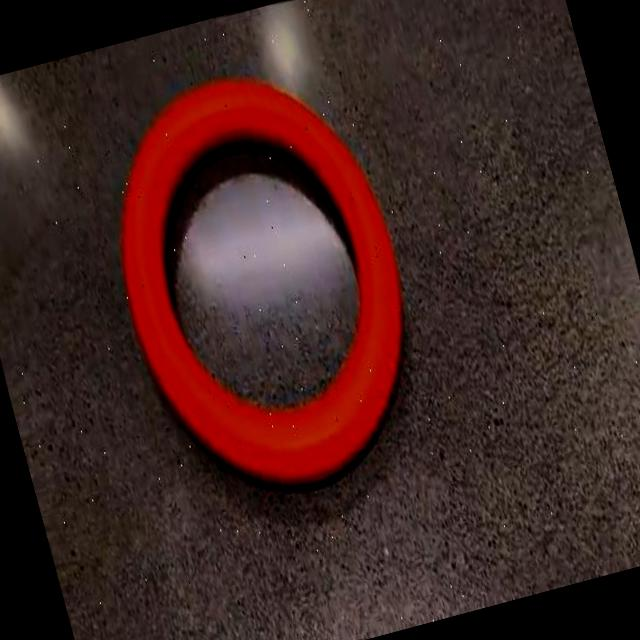note: (122, 77, 402, 484)
